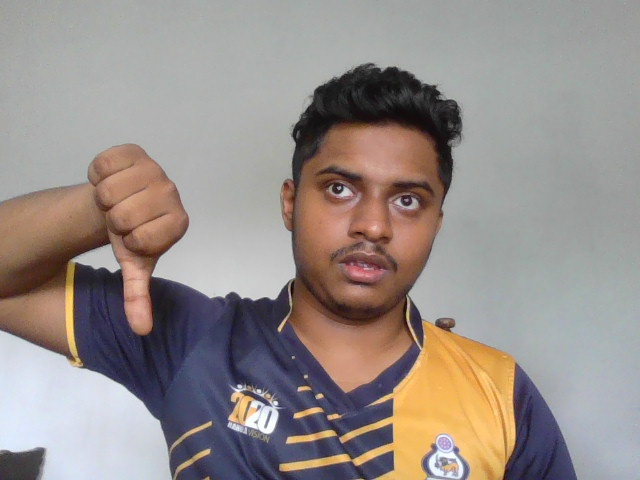Disagree: (86, 141, 192, 338)
